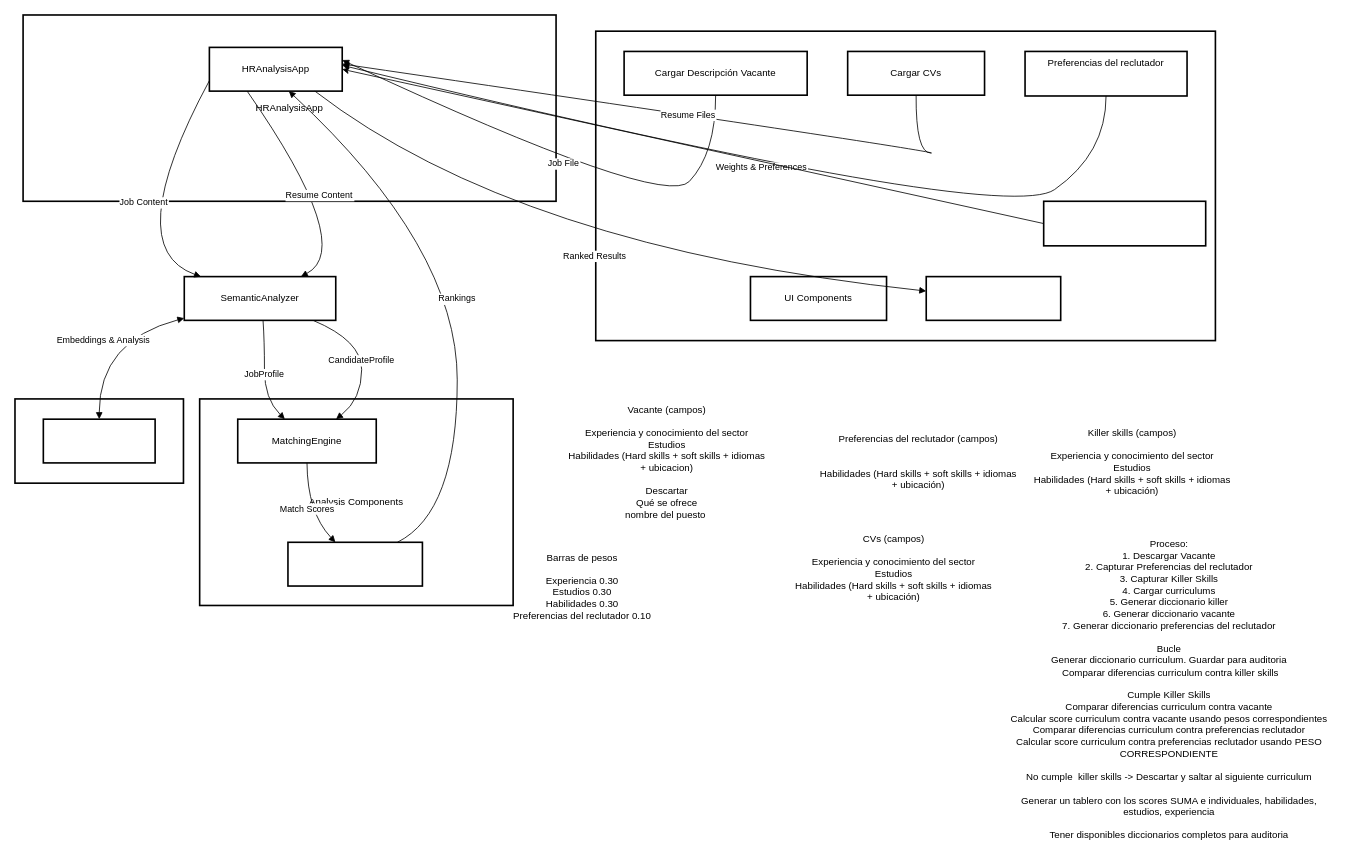
Image size: 1349x867. Some labels were removed from this diagram. Here are the shapes that lost their labels. From the top down, the box of each, then its label:
(595, 30, 1216, 341): Frontend
(1042, 200, 1206, 246): Killer skills
(925, 275, 1061, 321): Results Display
(42, 418, 156, 463): OpenAI API
(287, 541, 423, 586): RankingSystem
